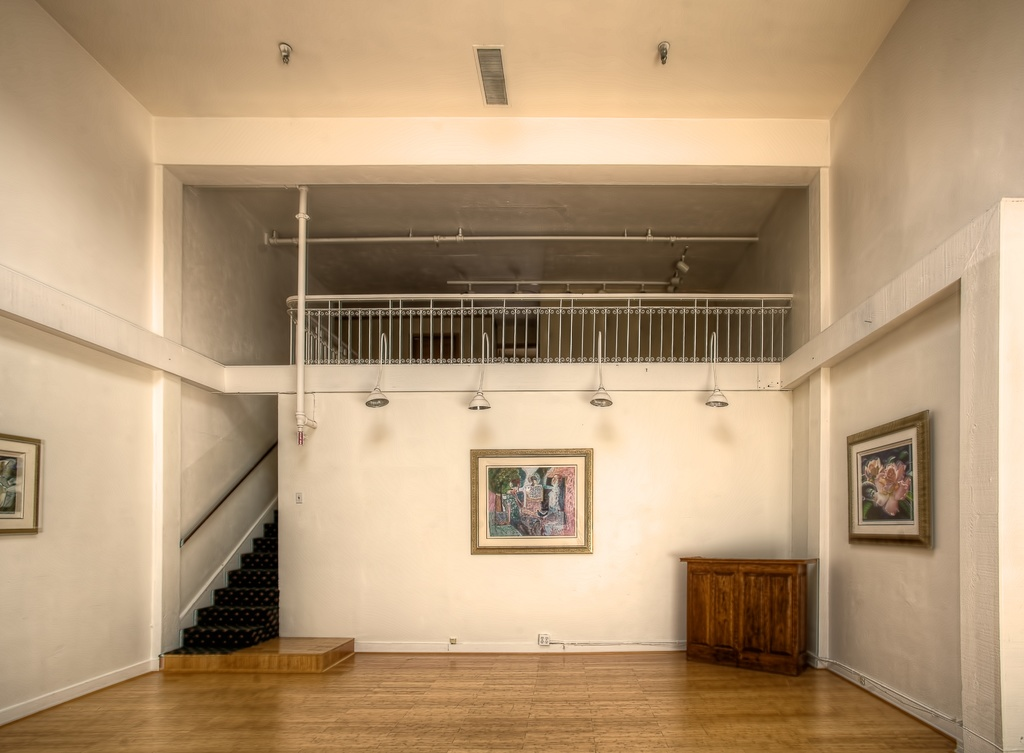cabinet door: (733, 569, 801, 660), (690, 572, 733, 645)
